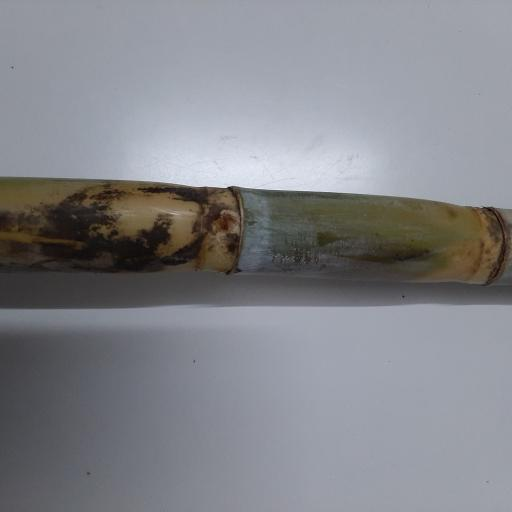Damage_Bud: (209, 209, 242, 240)
